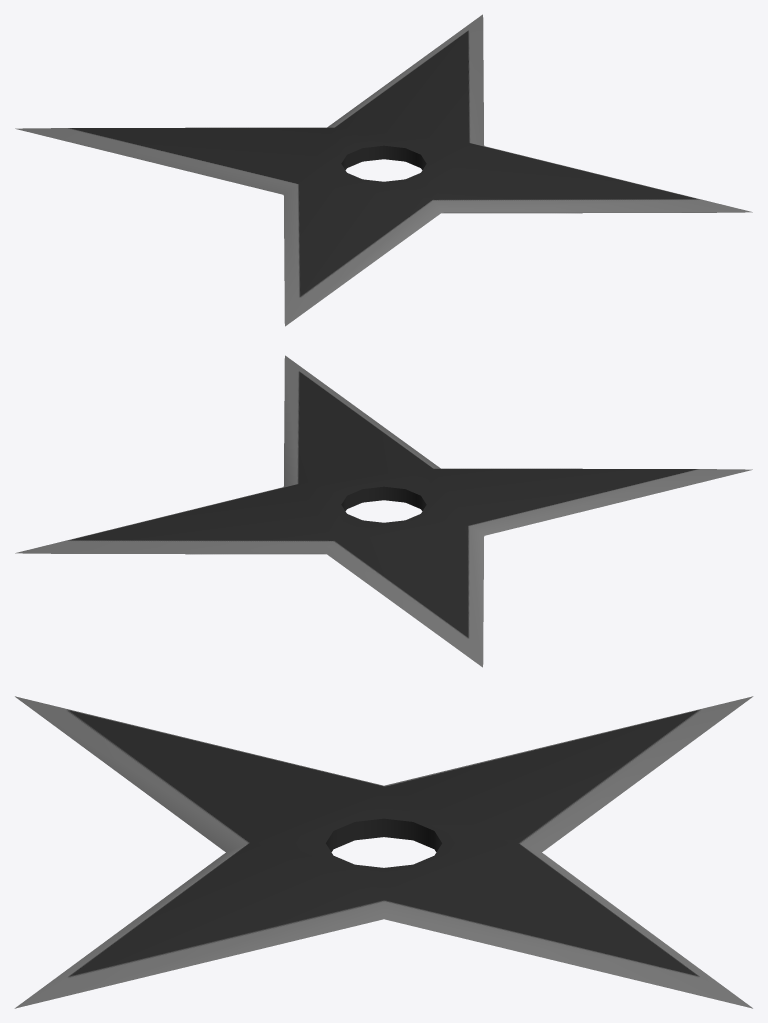
File: mini_shuriken.fbx
3 views of the same model, one above another, from view 1: azimuth 30°, elevation 25°; view 2: azimuth 150°, elevation 25°; view 3: azimuth 270°, elevation 25° (orthographic). The views are drawn at different scales.
Visible parts, largest first — view 1: Shuriken6; view 2: Shuriken6; view 3: Shuriken6.
Part boxes in pixels (<box>): Shuriken6: <box>15,14,752,326</box>; Shuriken6: <box>15,355,752,667</box>; Shuriken6: <box>14,696,753,1008</box>.
Bounding box in the file's own units: 8.89 × 0.2443 × 8.89.
1 material, 1 textured.
